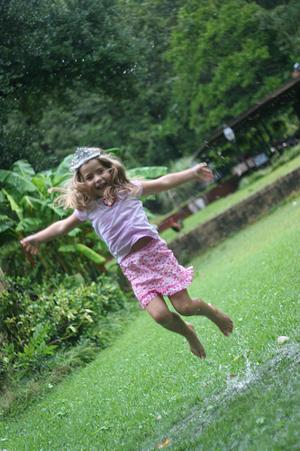person: (18, 145, 235, 362)
